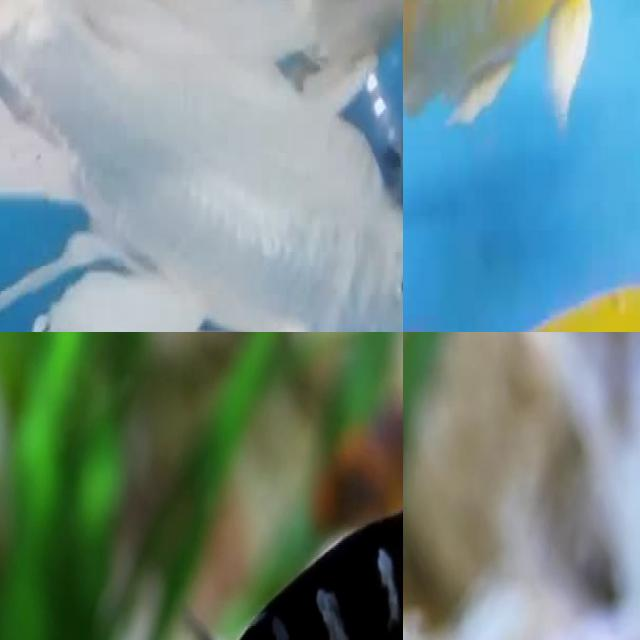fish: (0, 0, 403, 332), (403, 0, 640, 226)
